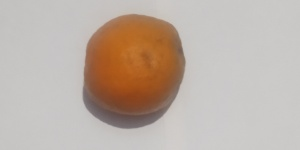BAD: (81, 12, 185, 116)
